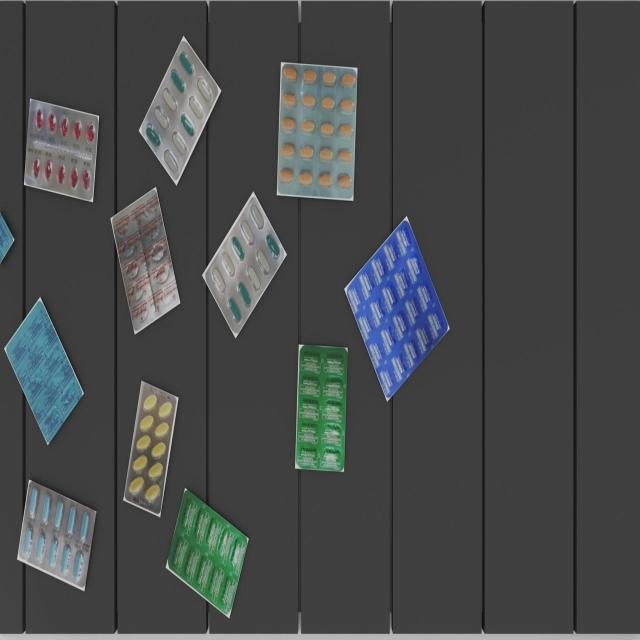blister: (345, 219, 448, 401), (140, 40, 219, 183), (6, 299, 83, 445), (205, 197, 285, 336), (277, 63, 356, 198), (168, 488, 248, 618), (112, 186, 179, 329), (16, 480, 96, 586), (24, 98, 99, 201), (295, 343, 349, 474), (126, 380, 176, 514)
